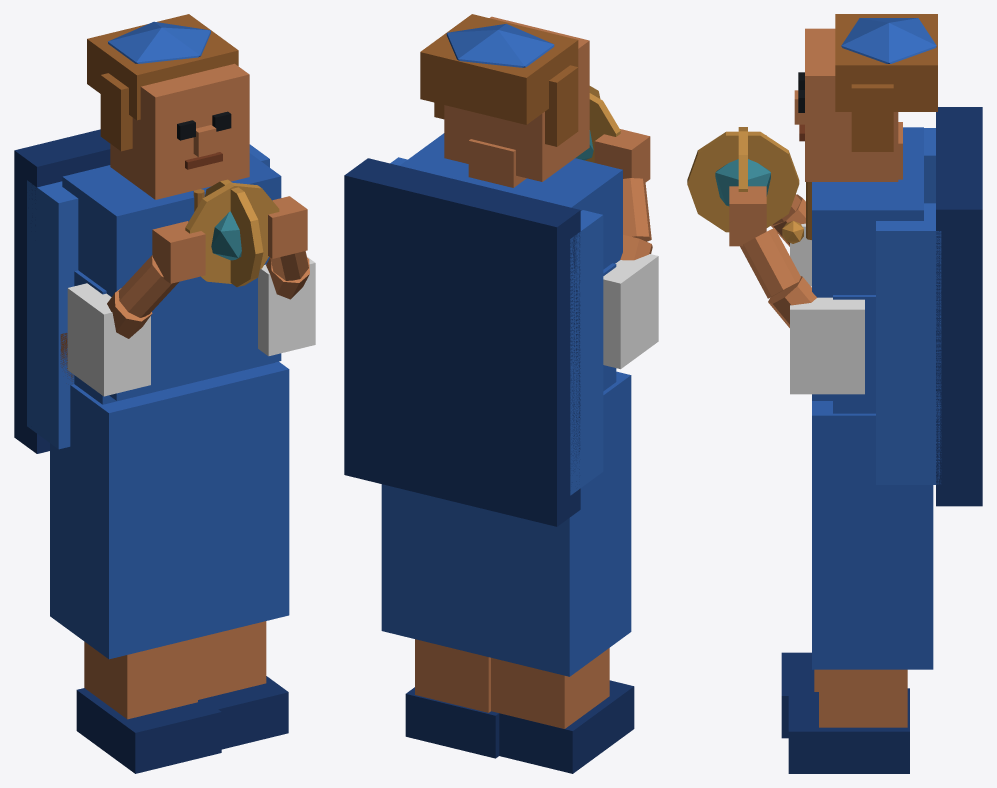
The model's file is seeress.glb.
The picture shows the model from 3 angles, left to right: view 1: azimuth 30°, elevation 25°; view 2: azimuth 150°, elevation 25°; view 3: azimuth 270°, elevation 25°; orthographic projection. The views are drawn at different scales.
Parts seen in each view (by area): view 1: 10_Tunica_Lunga_Basso, 12_Tunica_Lunga_Alto, 31_Viso, 21_Mantello_Lato_Sinistro, 03_Piede_Sinistro, 20_Mantello_Dietro, 01_Gamba_Sinistra, 40_Spalla_Sinistra, 36_Capelli, 02_Gamba_Destra, 50_Spalla_Destra, 04_Piede_Destro (+13 smaller); view 2: 20_Mantello_Dietro, 10_Tunica_Lunga_Basso, 36_Capelli, 21_Mantello_Lato_Sinistro, 31_Viso, 12_Tunica_Lunga_Alto, 03_Piede_Sinistro, 01_Gamba_Sinistra, 40_Spalla_Sinistra, 02_Gamba_Destra, 04_Piede_Destro, 39_Velo_Leggero (+6 smaller); view 3: 10_Tunica_Lunga_Basso, 20_Mantello_Dietro, 22_Mantello_Lato_Destro, 12_Tunica_Lunga_Alto, 31_Viso, 50_Spalla_Destra, 04_Piede_Destro, 36_Capelli, 62_Orb_Alone_Verticale, 02_Gamba_Destra, 39_Velo_Leggero, 38_Capelli_Lato_Destro (+9 smaller).
Part boxes in pixels (x1,y1,x2,y2): 10_Tunica_Lunga_Basso: (50, 361, 289, 659); 12_Tunica_Lunga_Alto: (62, 153, 281, 400); 31_Viso: (110, 63, 249, 199); 21_Mantello_Lato_Sinistro: (27, 180, 78, 449); 03_Piede_Sinistro: (76, 688, 221, 773); 20_Mantello_Dietro: (14, 129, 110, 453); 01_Gamba_Sinistra: (84, 637, 197, 719); 40_Spalla_Sinistra: (67, 283, 150, 396); 36_Capelli: (87, 14, 238, 120); 02_Gamba_Destra: (198, 621, 266, 699); 50_Spalla_Destra: (258, 257, 315, 356); 04_Piede_Destro: (204, 676, 288, 749); 20_Mantello_Dietro: (344, 158, 580, 526); 10_Tunica_Lunga_Basso: (381, 371, 631, 676); 36_Capelli: (420, 14, 578, 124); 21_Mantello_Lato_Sinistro: (570, 210, 603, 495); 31_Viso: (444, 16, 589, 181); 12_Tunica_Lunga_Alto: (400, 133, 622, 269); 03_Piede_Sinistro: (499, 680, 634, 773); 01_Gamba_Sinistra: (491, 648, 609, 728); 40_Spalla_Sinistra: (603, 254, 658, 369); 02_Gamba_Destra: (415, 639, 490, 712); 04_Piede_Destro: (405, 687, 499, 758); 39_Velo_Leggero: (446, 23, 554, 67); 10_Tunica_Lunga_Basso: (812, 401, 933, 669); 20_Mantello_Dietro: (936, 107, 982, 506); 22_Mantello_Lato_Destro: (876, 203, 941, 484); 12_Tunica_Lunga_Alto: (812, 127, 923, 400); 31_Viso: (805, 28, 898, 181); 50_Spalla_Destra: (790, 286, 864, 394); 04_Piede_Destro: (788, 688, 909, 773); 36_Capelli: (835, 14, 937, 111); 62_Orb_Alone_Verticale: (687, 131, 799, 232); 02_Gamba_Destra: (819, 669, 907, 727); 39_Velo_Leggero: (841, 18, 936, 63); 38_Capelli_Lato_Destro: (851, 84, 893, 151).
Bounding box in the file's own units: 1.08 × 3.36 × 1.26.
